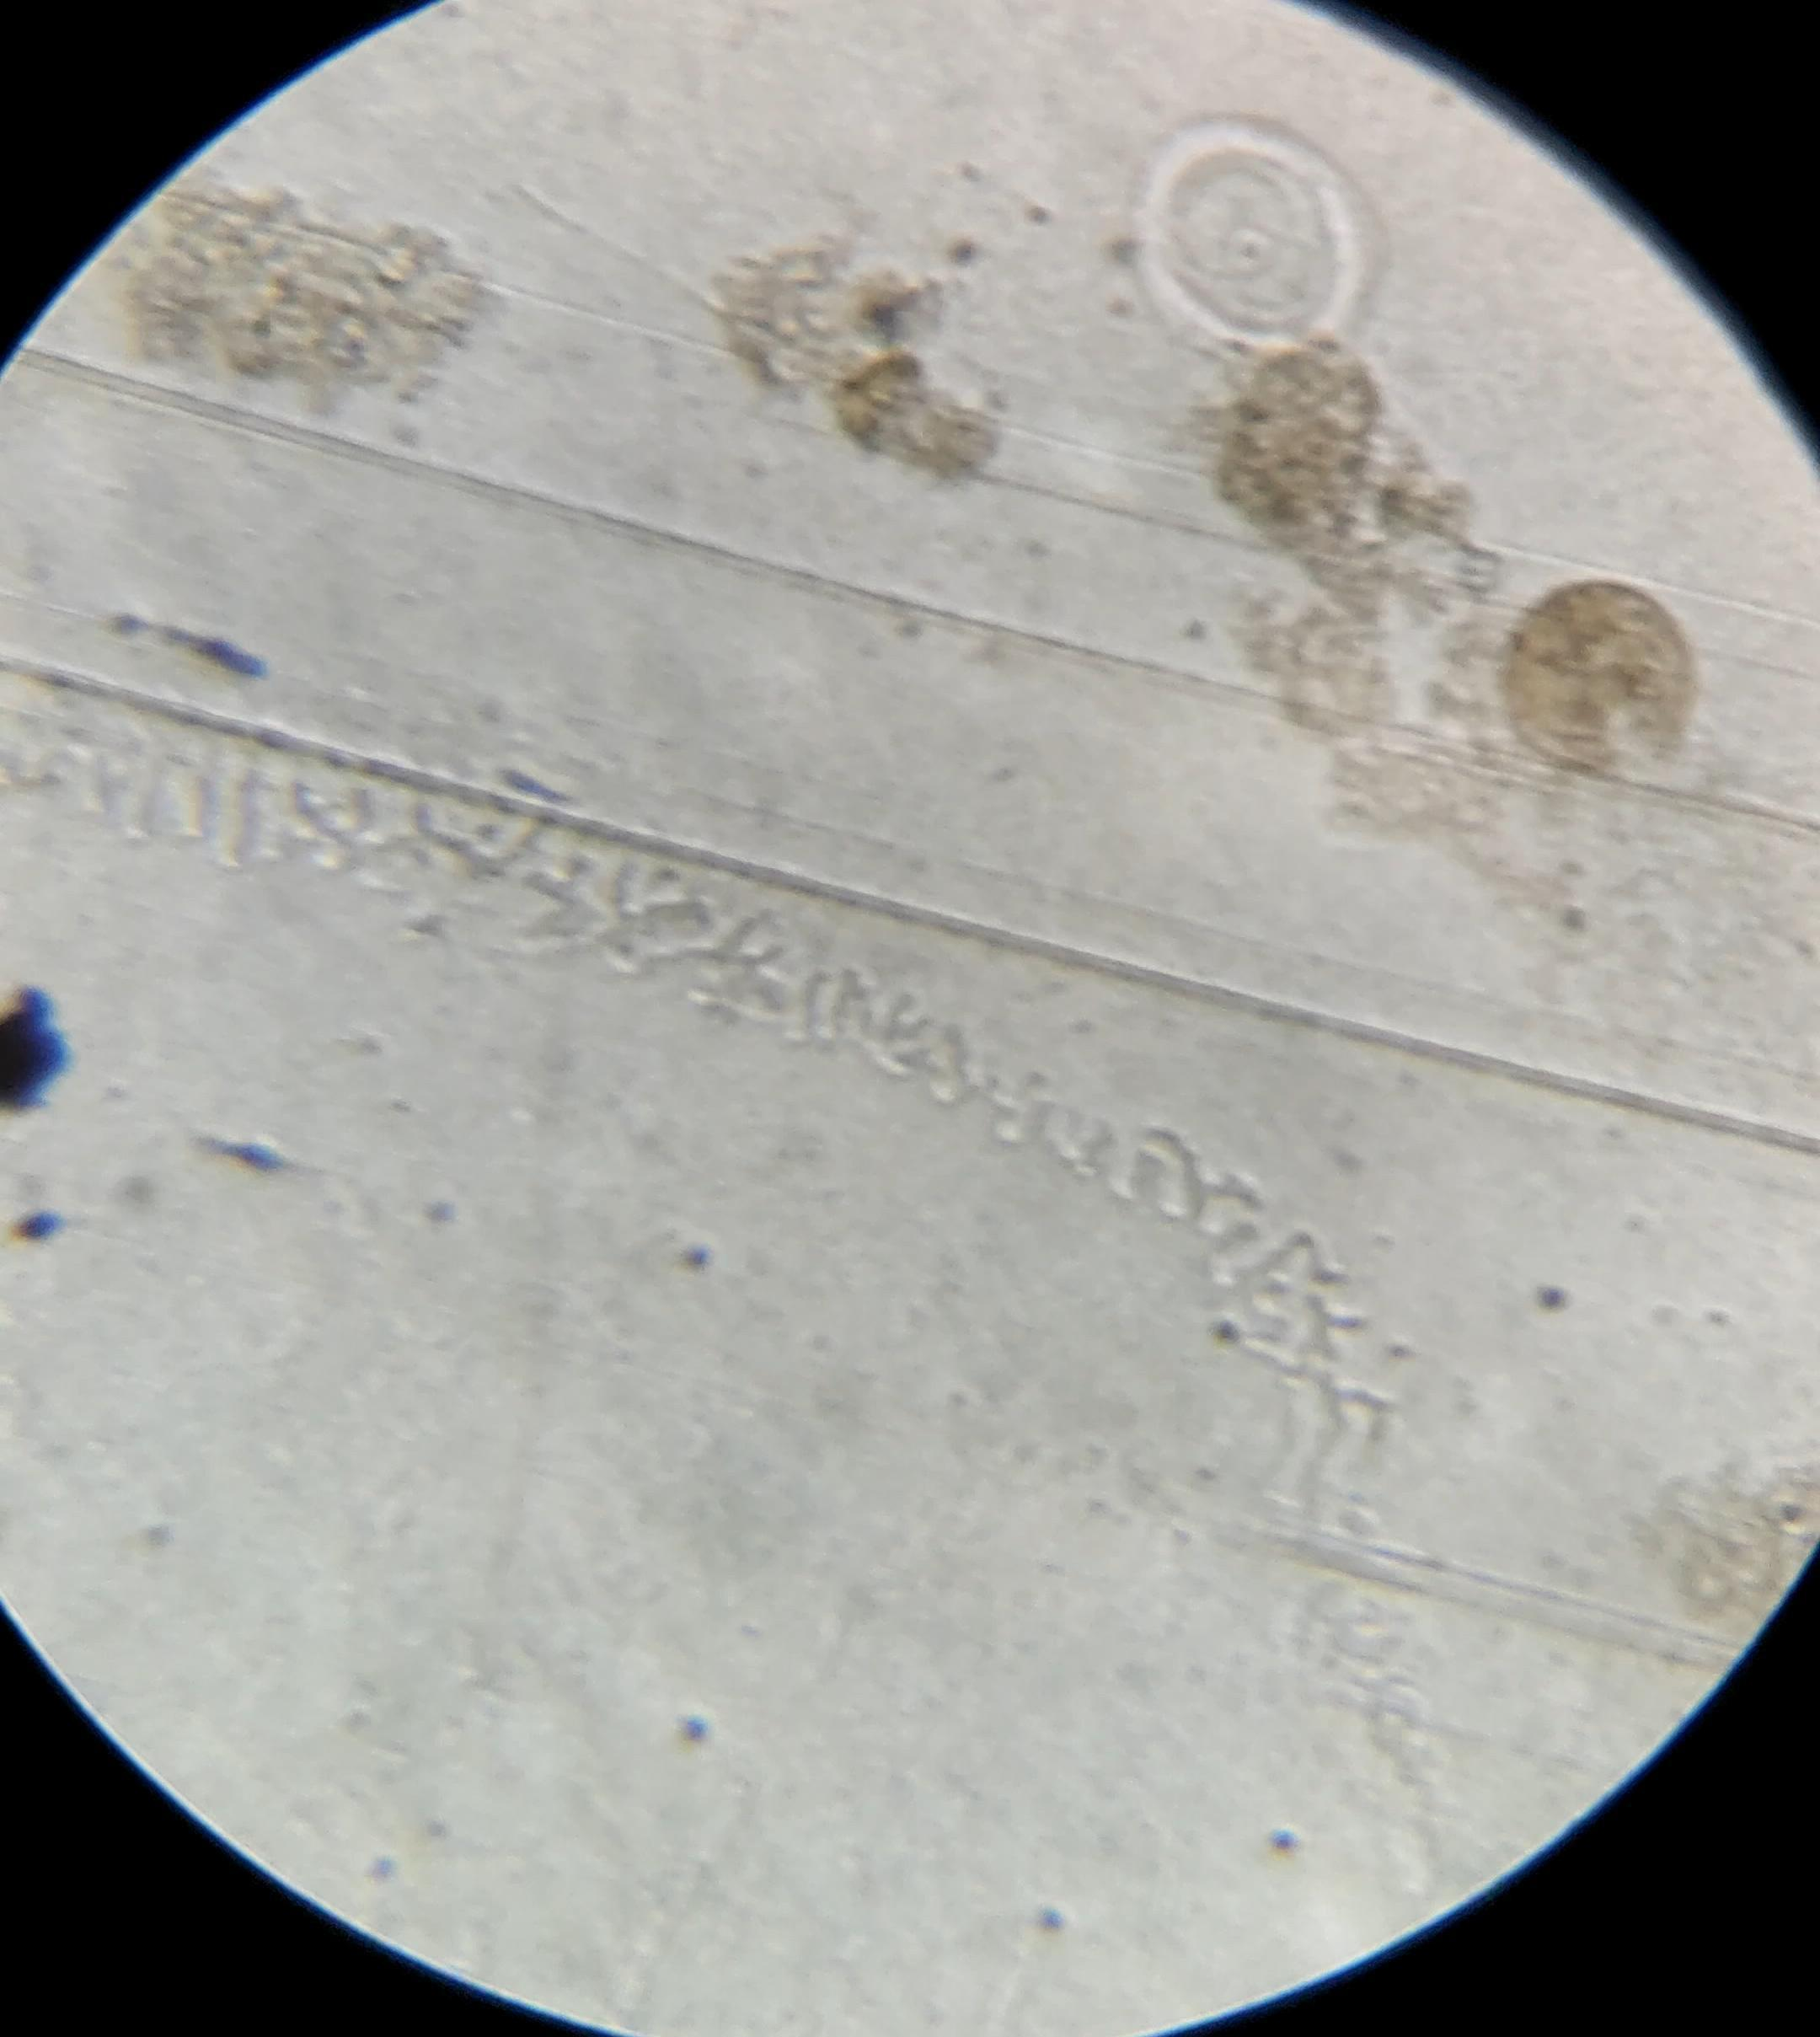Arcella: (1509, 589, 1692, 773)
